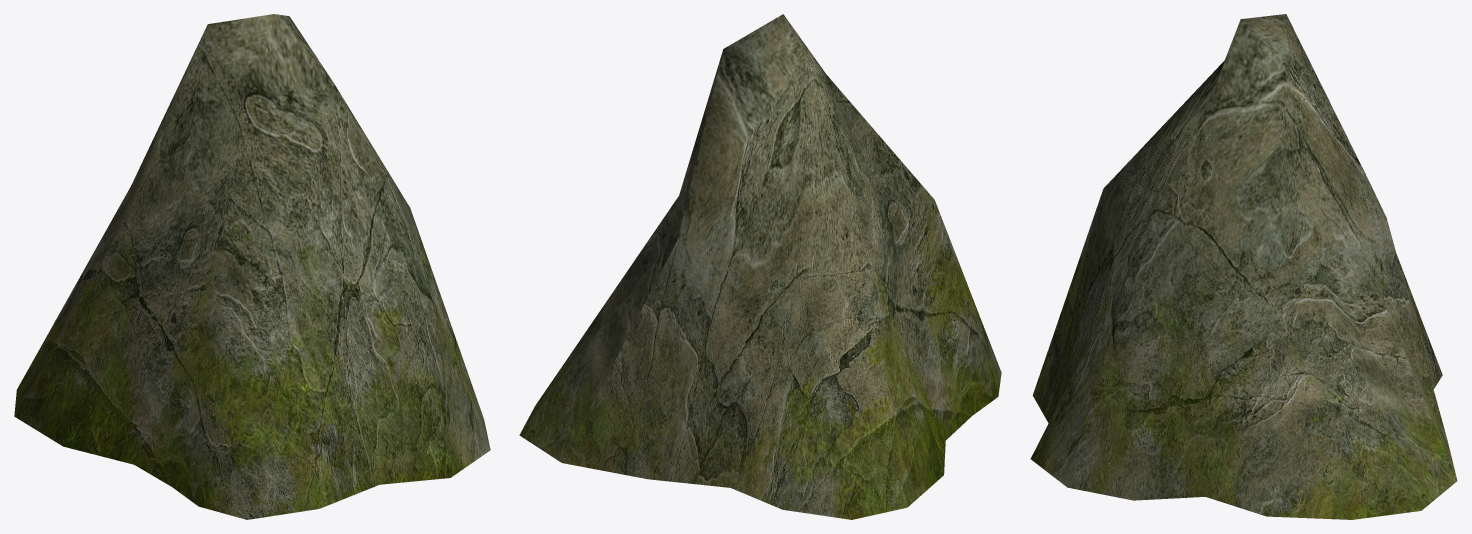
File: STONE3.fbx
The picture shows the model from 3 angles, left to right: view 1: azimuth 30°, elevation 25°; view 2: azimuth 150°, elevation 25°; view 3: azimuth 270°, elevation 25°; orthographic projection.
Visible parts, largest first — view 1: Box001; view 2: Box001; view 3: Box001.
Part boxes in pixels (left/top/right/bottom): Box001: left=14, top=14, right=490, bottom=519; Box001: left=519, top=14, right=1001, bottom=519; Box001: left=1030, top=14, right=1457, bottom=519.
Size of the model in its own units: 19.01 by 18.89 by 18.05.
Materials: 1 (1 with a texture image).
